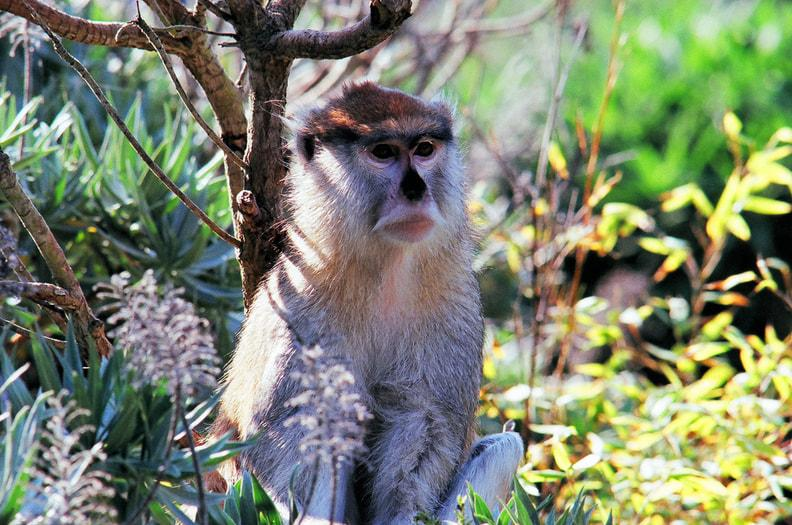monkey: (219, 83, 486, 525)
